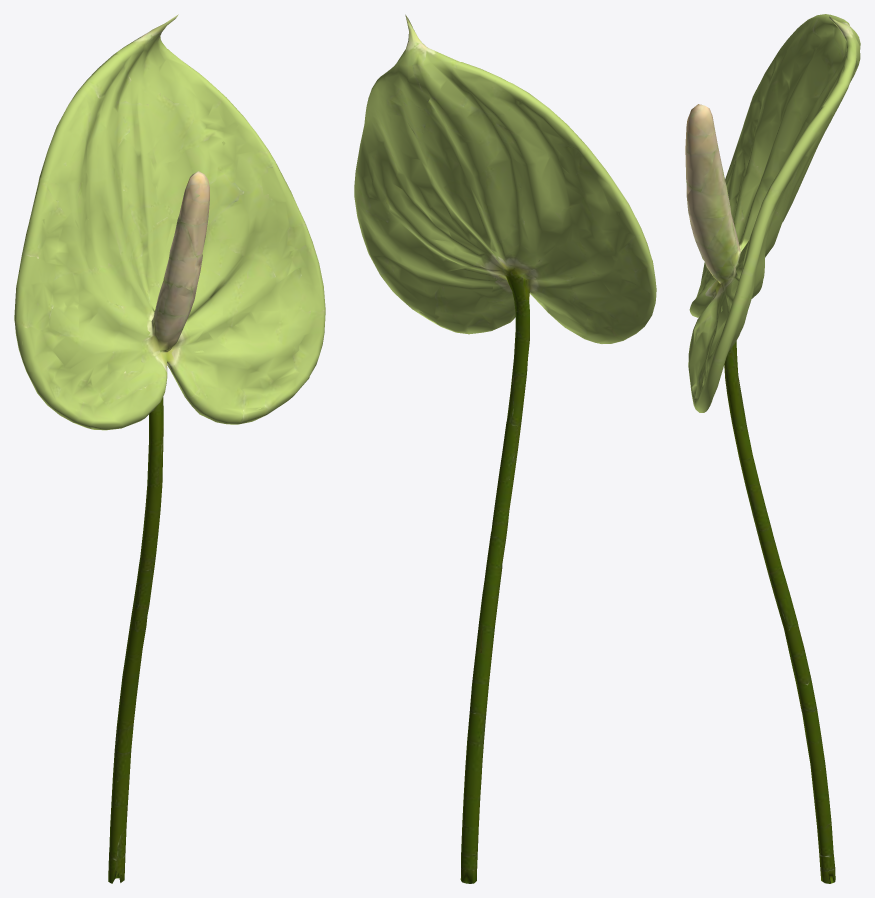
The model's file is green.glb.
3 renders of one model, left to right at view 1: azimuth 30°, elevation 25°; view 2: azimuth 150°, elevation 25°; view 3: azimuth 270°, elevation 25°, orthographic. The views are drawn at different scales.
Size of the model in its own units: 0.702 by 1.9 by 0.3364.
1 material, 1 textured.
